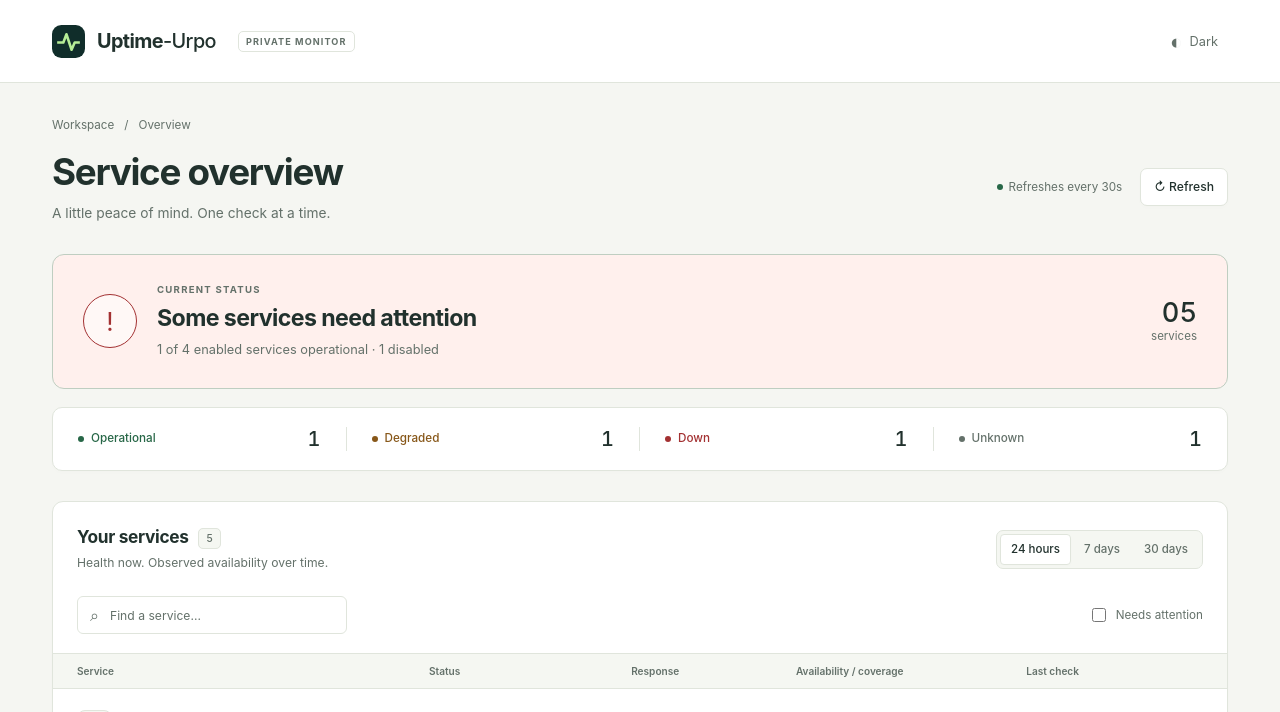
Test: monitoring workspace › retains the last snapshot after a failed refresh and labels health as last known
Click the button "↻ Refresh": (1184, 187) [1140, 168, 1228, 206]
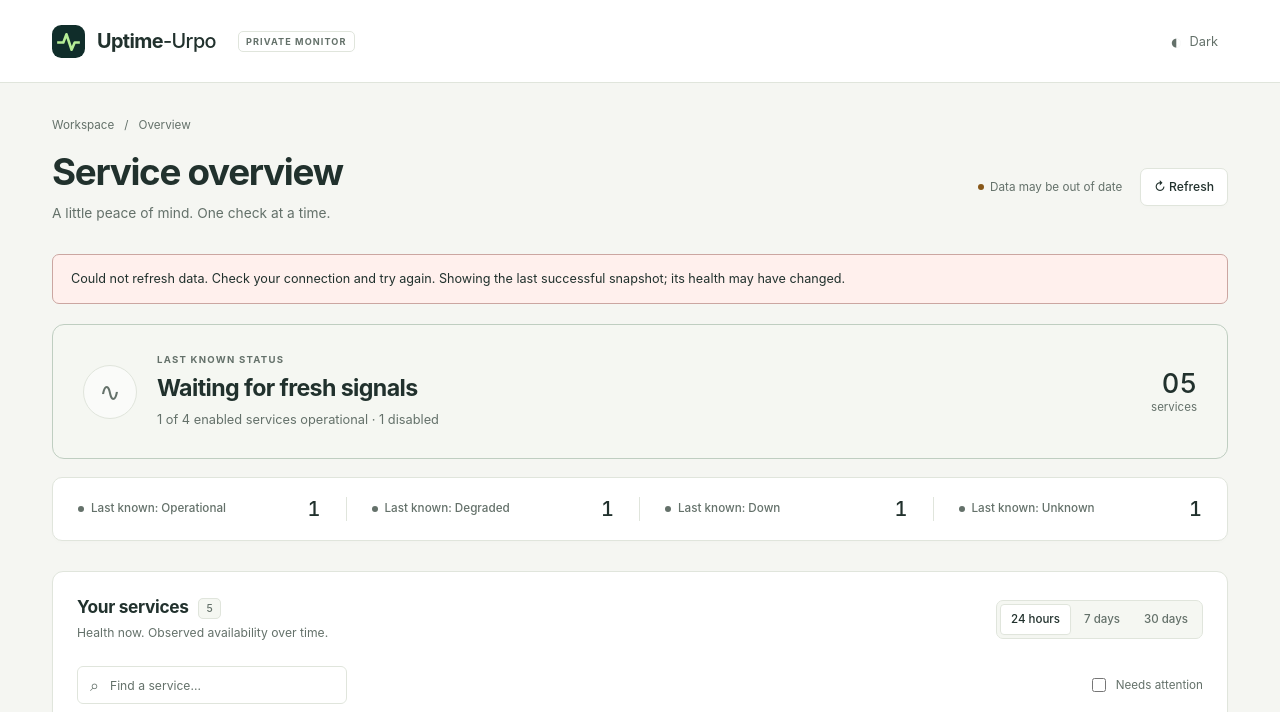
Expected: the message is shown, [52, 254, 1228, 304]
Expected: the heading "Waiting for fresh signals" is shown, [157, 374, 439, 402]
Expected: the text "Last known: Operational" is shown, [78, 500, 226, 518]
Click the button "↻ Refresh": (1184, 187) [1140, 168, 1228, 206]
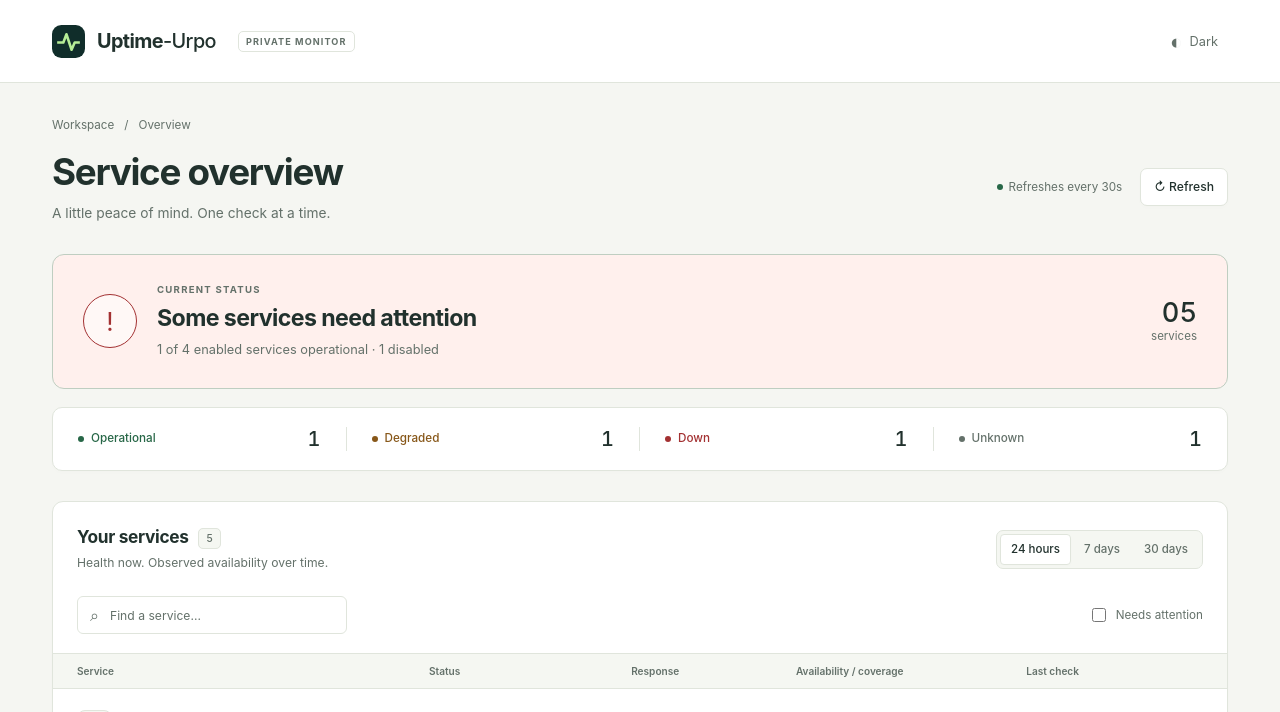
Expected: the heading "Some services need attention" is shown, [157, 304, 477, 332]
Expected: the message is gone
